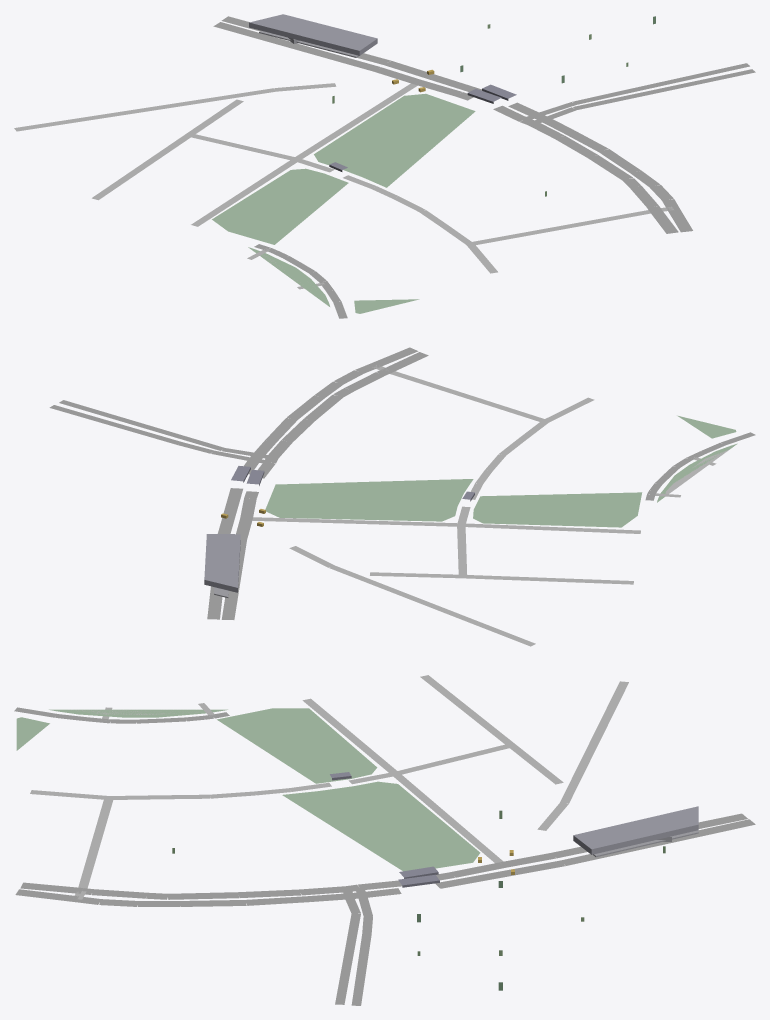
3 renders of one model, top to bottom at view 1: azimuth 30°, elevation 25°; view 2: azimuth 150°, elevation 25°; view 3: azimuth 270°, elevation 25°, orthographic. The views are drawn at different scales.
Size of the model in its own units: 584 by 15.92 by 544.
